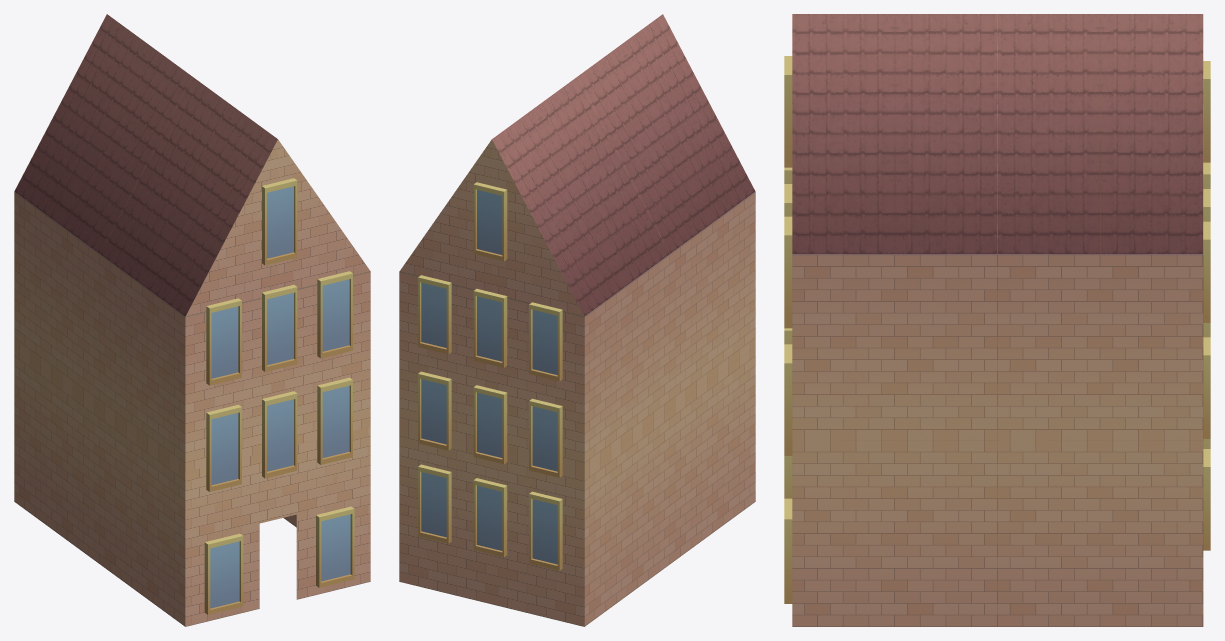
File: HuisM.fbx
3 views of the same model, side by side, from view 1: azimuth 30°, elevation 25°; view 2: azimuth 150°, elevation 25°; view 3: azimuth 270°, elevation 25° (orthographic). The views are drawn at different scales.
Visible parts, largest first — view 1: HuisM; view 2: HuisM; view 3: HuisM.
Boxes of the visible parts, x1,y1,x2,y2 form: HuisM: [14, 14, 370, 626]; HuisM: [399, 14, 755, 626]; HuisM: [784, 14, 1210, 626].
Bounding box in the file's own units: 501 × 1200 × 830.
